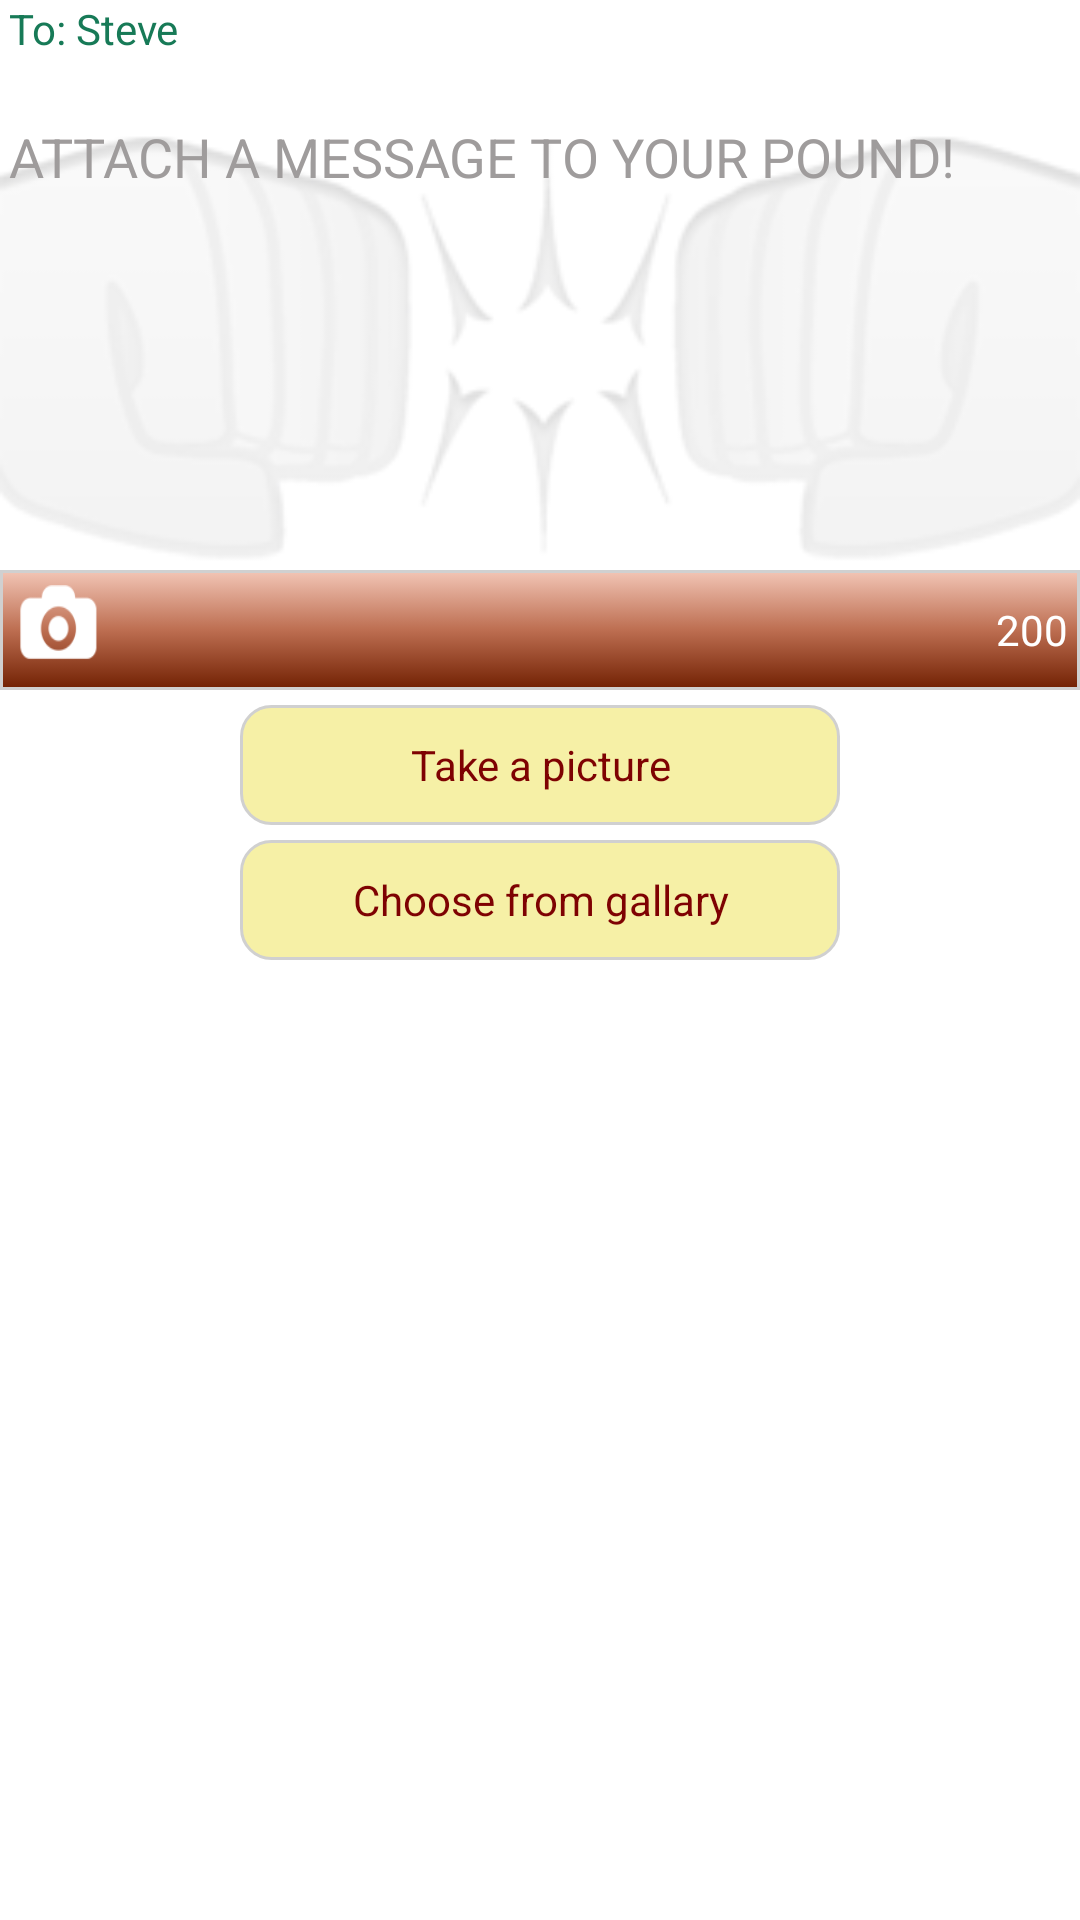

Icons on this 1080w x 1920h Android screen, each with the point to tap as point (x, y):
camerabutton: point (60, 630)
